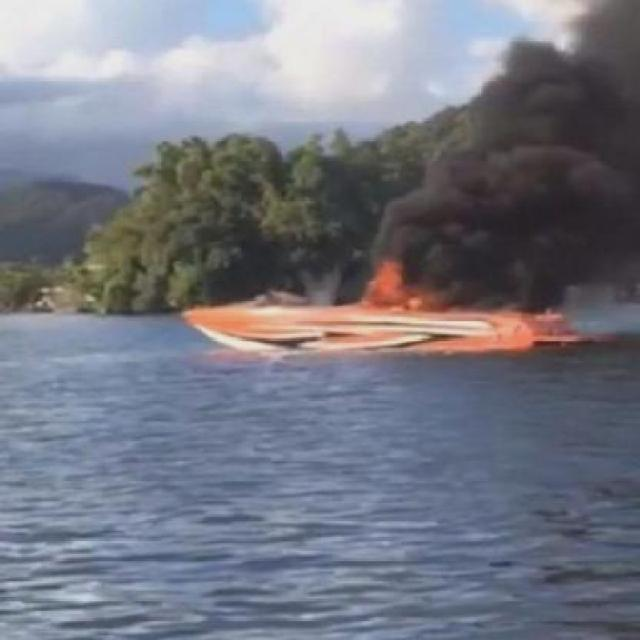Fire: (358, 258, 428, 316)
